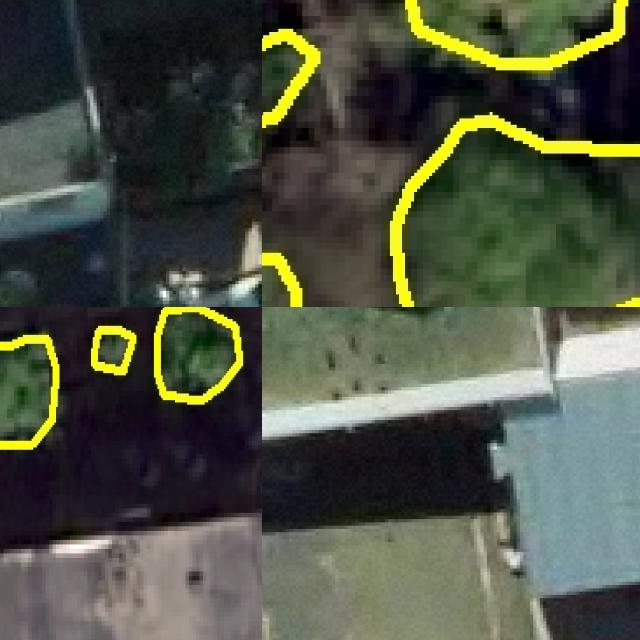trees: (394, 119, 640, 308), (409, 1, 623, 65), (157, 308, 241, 401), (1, 338, 57, 446), (263, 33, 315, 123), (94, 329, 134, 372)
